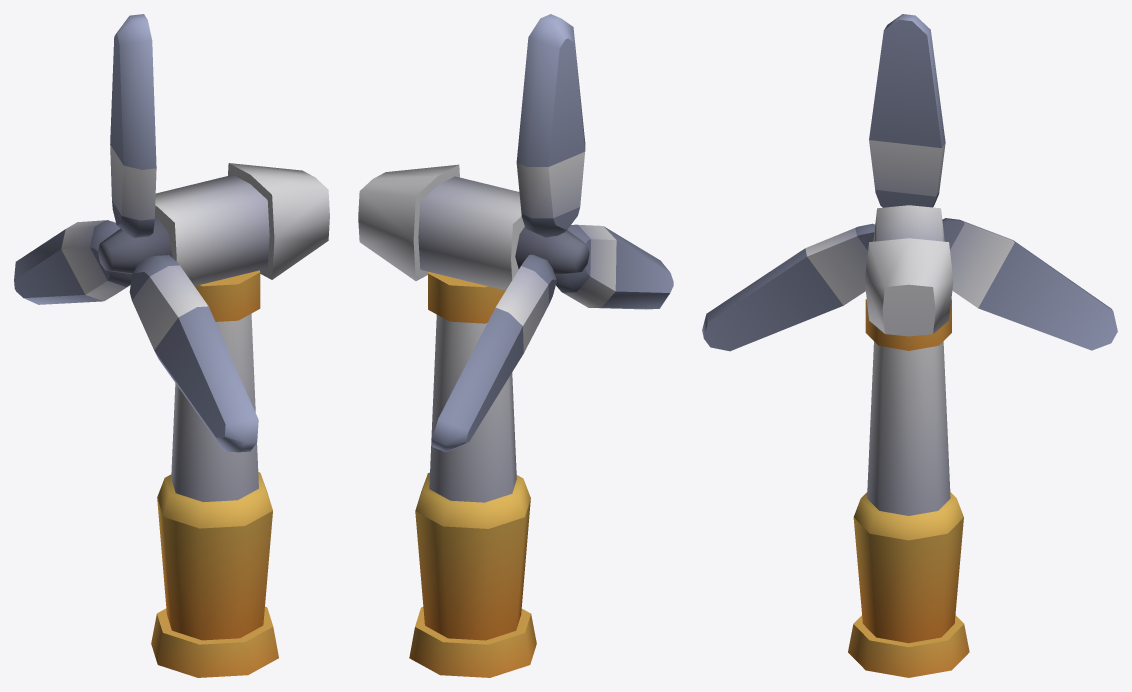
Rendered from industrial-windmill-low.glb.
The picture shows the model from 3 angles, left to right: view 1: azimuth 30°, elevation 25°; view 2: azimuth 150°, elevation 25°; view 3: azimuth 270°, elevation 25°; orthographic projection. The views are drawn at different scales.
Parts seen in each view (by area): view 1: windmill-low, blades; view 2: windmill-low, blades; view 3: windmill-low, blades.
Boxes of the visible parts, x1=… form: windmill-low: x1=98, y1=163, x2=329, y2=677; blades: x1=14, y1=14, x2=258, y2=452; windmill-low: x1=358, y1=164, x2=589, y2=677; blades: x1=432, y1=14, x2=673, y2=452; windmill-low: x1=848, y1=205, x2=969, y2=677; blades: x1=702, y1=14, x2=1117, y2=351.
Bounding box in the file's own units: 0.6047 × 1.79 × 1.13.
